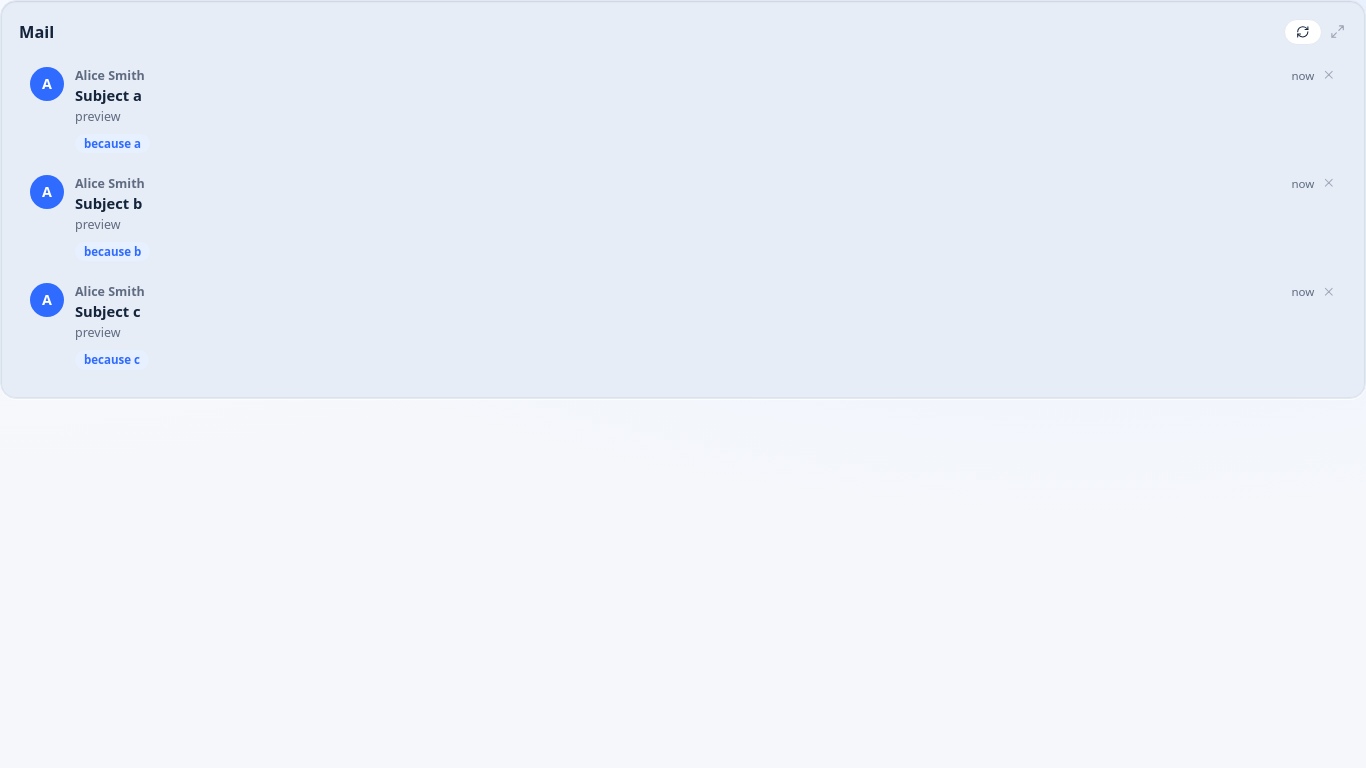
it: MailWidget ranked picks › opens out to ten, which is what the extra room is for
Expected: the link "Subject a" is shown, [75, 85, 142, 105]
Click the button named "Show Mail full screen": x=1337, y=32 [1328, 22, 1347, 42]
(page scrolled)
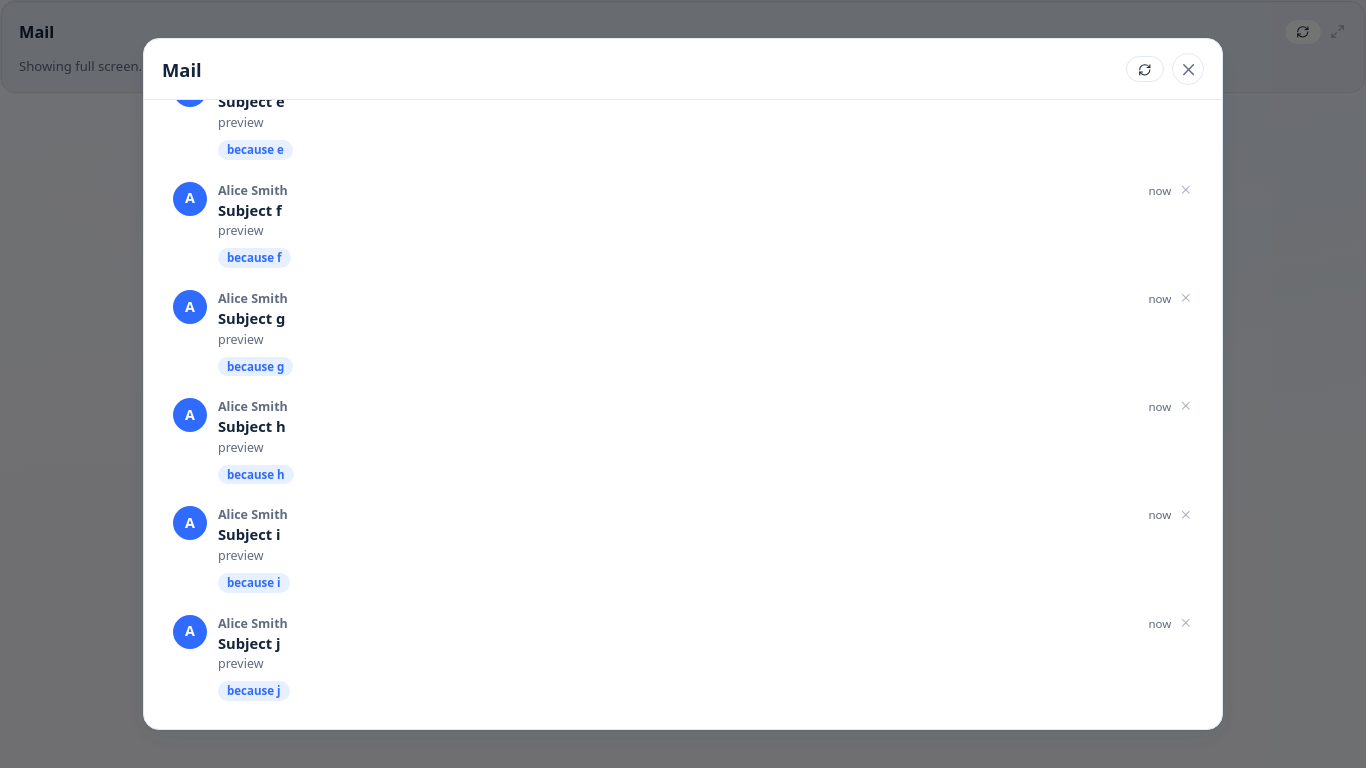
Expected: the link "Subject j" is shown, [218, 632, 281, 652]
